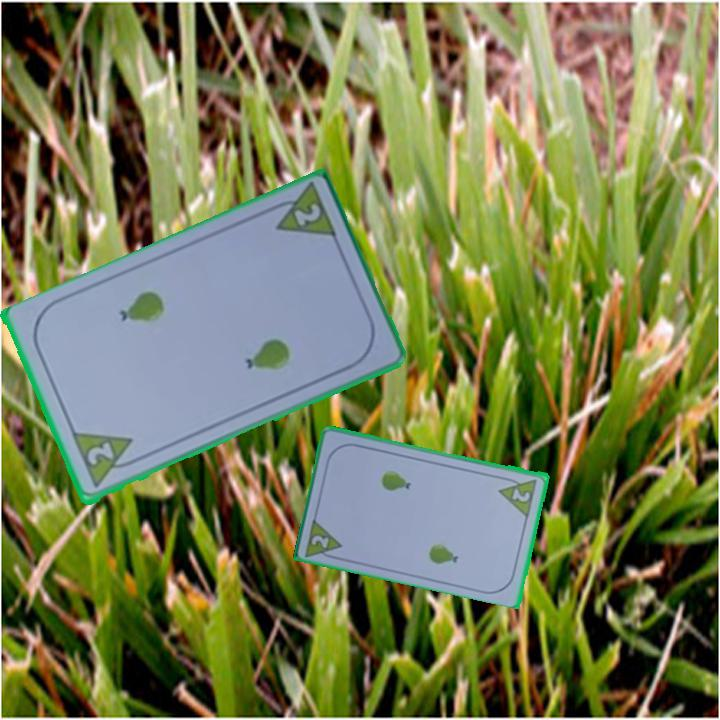2p: (302, 514, 346, 563), (496, 473, 540, 519), (289, 200, 324, 230), (83, 439, 117, 469)
